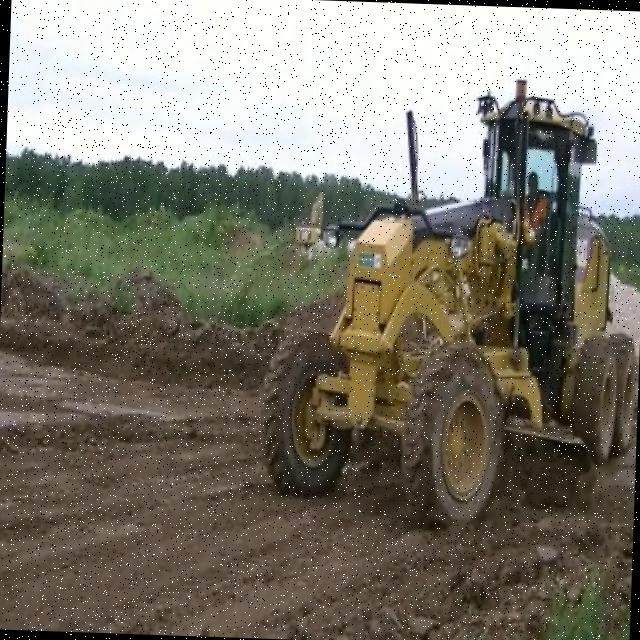Excavator: (296, 190, 323, 258)
